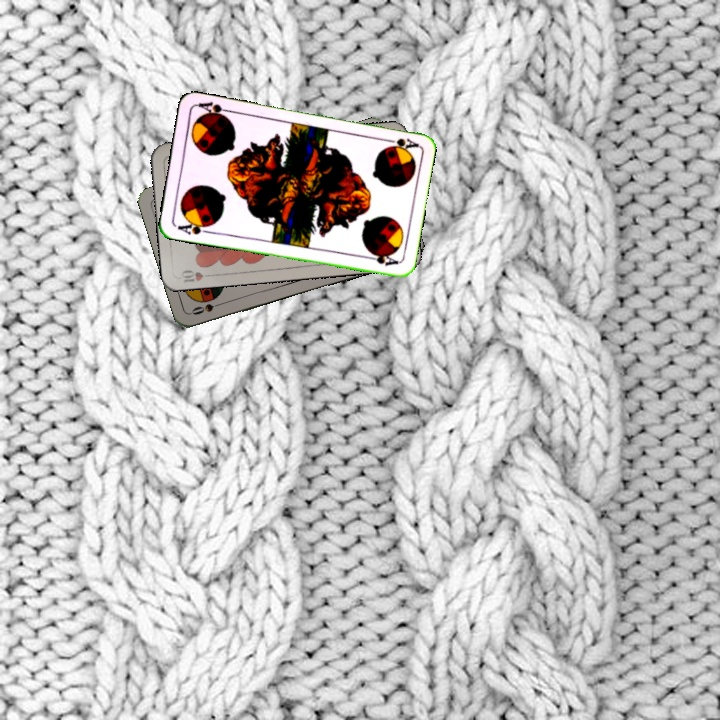H10: (177, 266, 217, 285)
SA: (173, 216, 215, 237), (379, 134, 420, 152)
SO: (188, 298, 228, 317)
